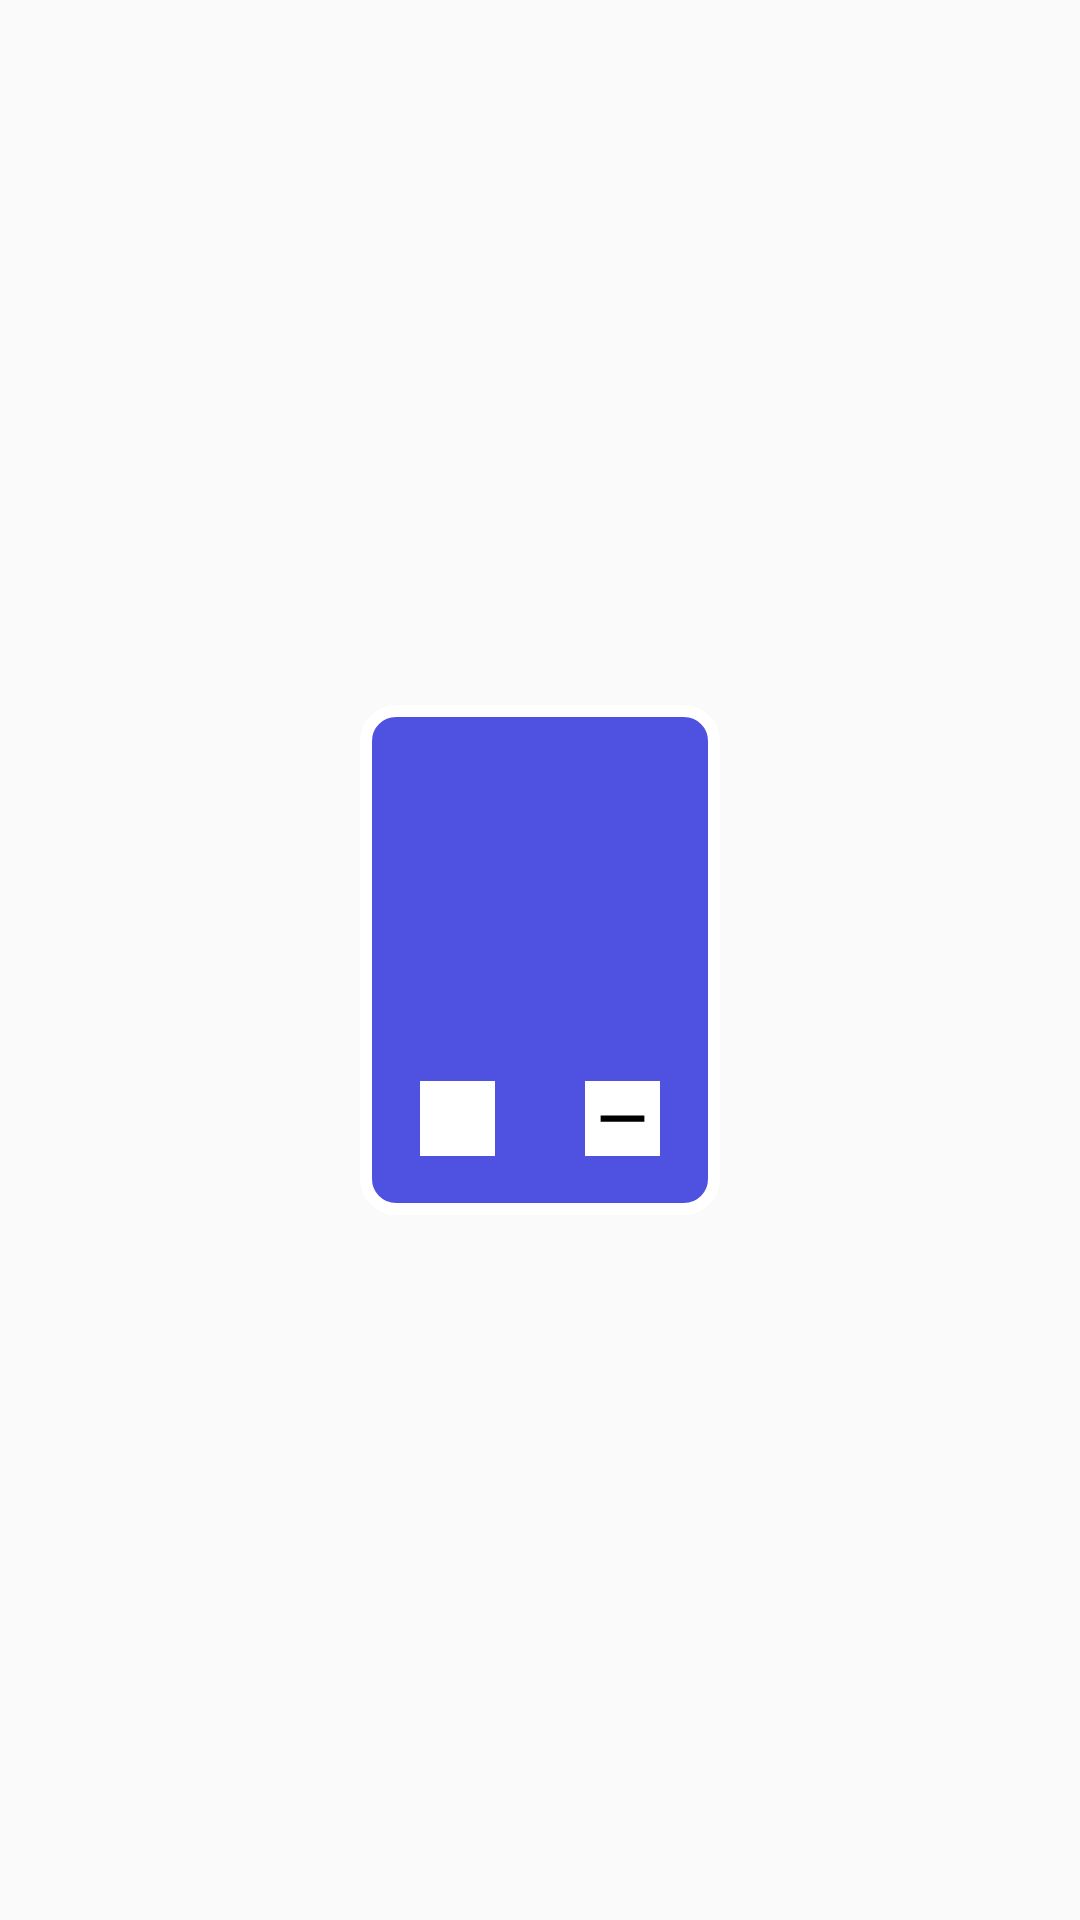

Where to tap for icons on this 1080px x 1920px app screen, as [x,y]:
remove: [622,1118]
